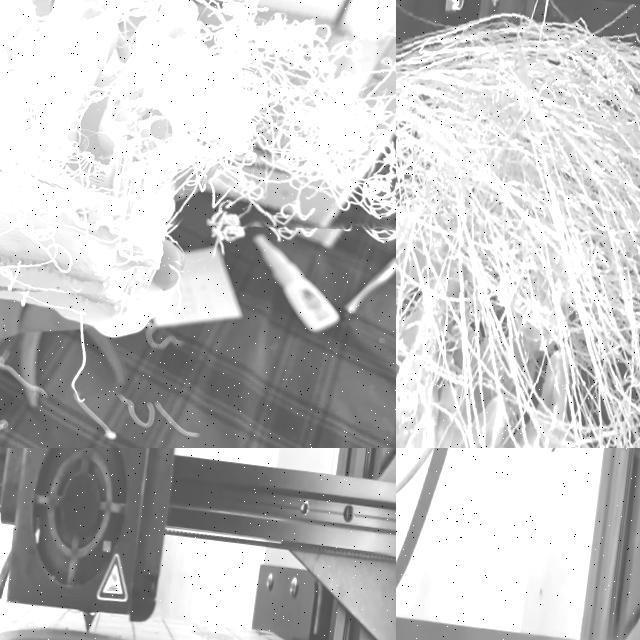spaghetti: (396, 0, 640, 448), (138, 0, 396, 260), (0, 0, 162, 317)
